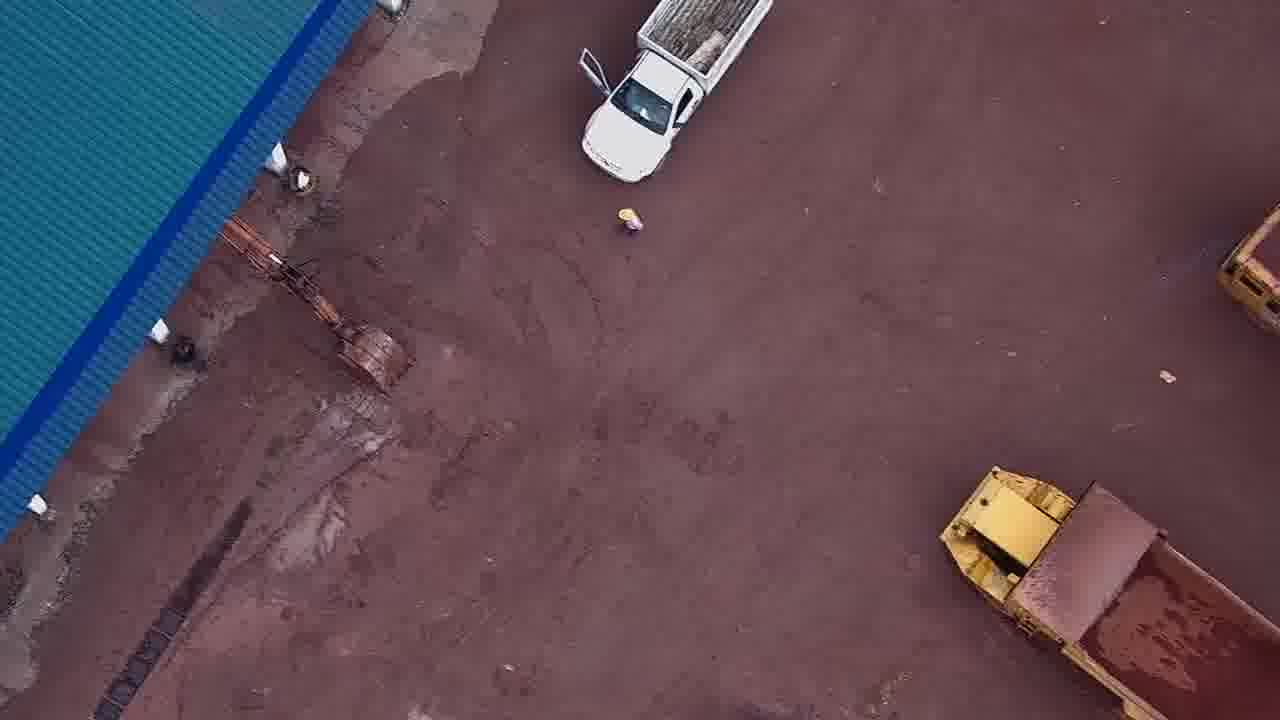heavy_motor_vehicle: (935, 462, 1279, 717)
light_motor_vehicle: (578, 1, 780, 185)
person: (612, 206, 647, 240)
